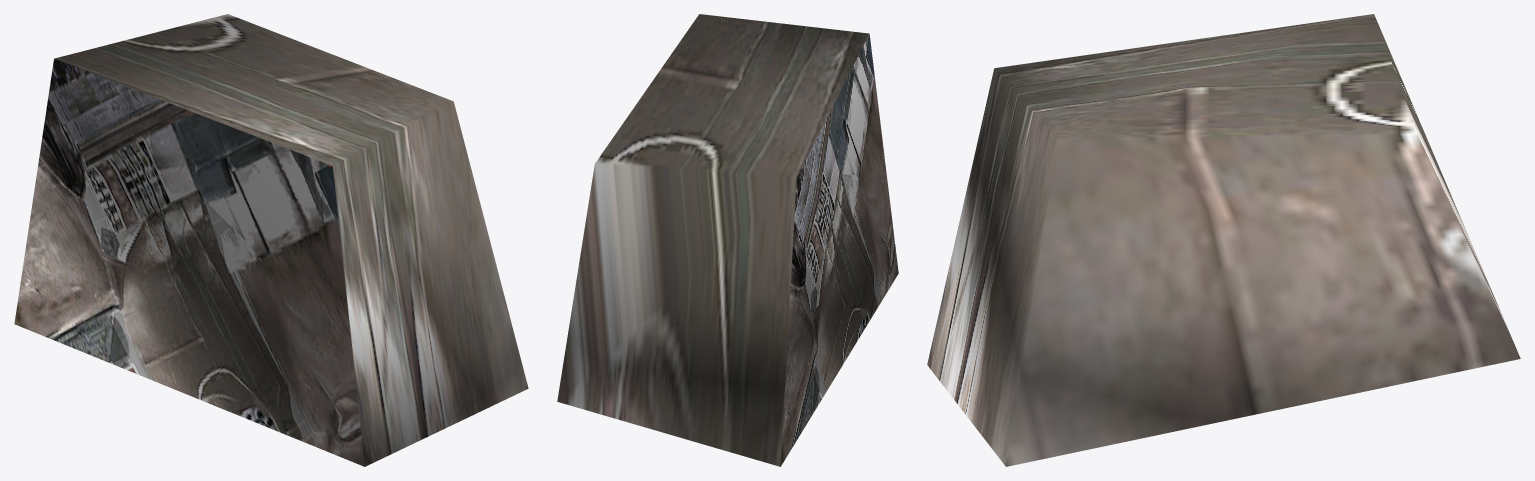
The model's file is poi_ev9d9head_l3.fbx.
3 views of the same model, side by side, from view 1: azimuth 30°, elevation 25°; view 2: azimuth 150°, elevation 25°; view 3: azimuth 270°, elevation 25° (orthographic). The views are drawn at different scales.
Visible parts, largest first — view 1: mesh_node; view 2: mesh_node; view 3: mesh_node.
Part boxes in pixels (x1,y1,x2,y2): mesh_node: (14,14,528,466); mesh_node: (557,14,898,466); mesh_node: (927,14,1520,466).
Bounding box in the file's own units: 0.2329 × 0.2045 × 0.3583.
1 material, 1 textured.
